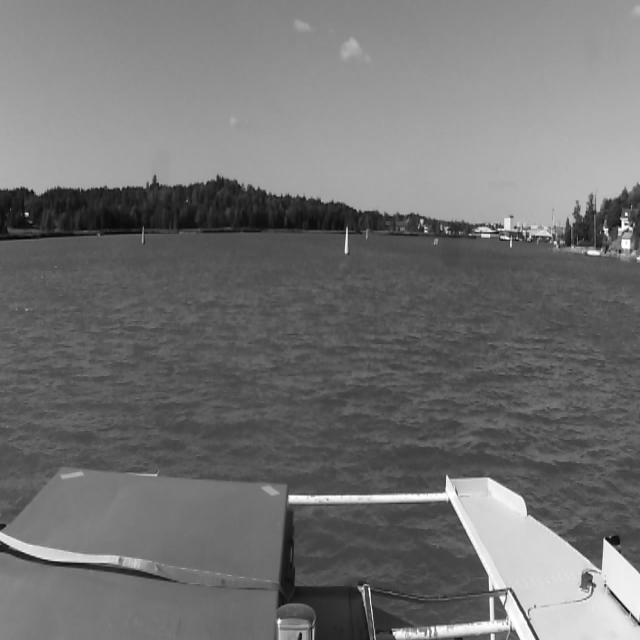buoy: (342, 228, 350, 254), (141, 226, 146, 242), (510, 238, 514, 252), (364, 227, 368, 240)
ship: (434, 238, 439, 246)
